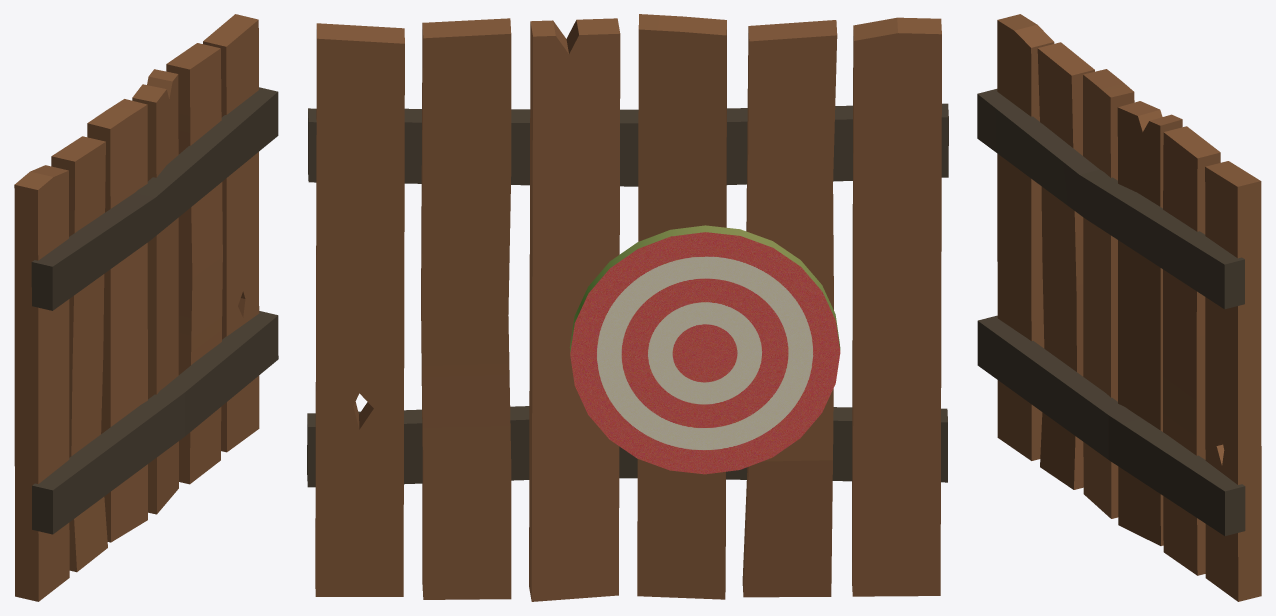
Rendered from Fence_Breakable_A (3).fbx.
The picture shows the model from 3 angles, left to right: view 1: azimuth 30°, elevation 25°; view 2: azimuth 150°, elevation 25°; view 3: azimuth 270°, elevation 25°; orthographic projection. The views are drawn at different scales.
Visible parts, largest first — view 1: Fence_Breakable_A (3); view 2: Fence_Breakable_A (3), Target; view 3: Fence_Breakable_A (3).
Part boxes in pixels (box(x1,y1,x2,y2)): Fence_Breakable_A (3): box(14, 14, 278, 601); Fence_Breakable_A (3): box(307, 14, 948, 601); Target: box(569, 225, 840, 474); Fence_Breakable_A (3): box(977, 14, 1261, 601).
Bounding box in the file's own units: 4.04 × 4.4 × 2.69.
3 materials, 2 textured.
